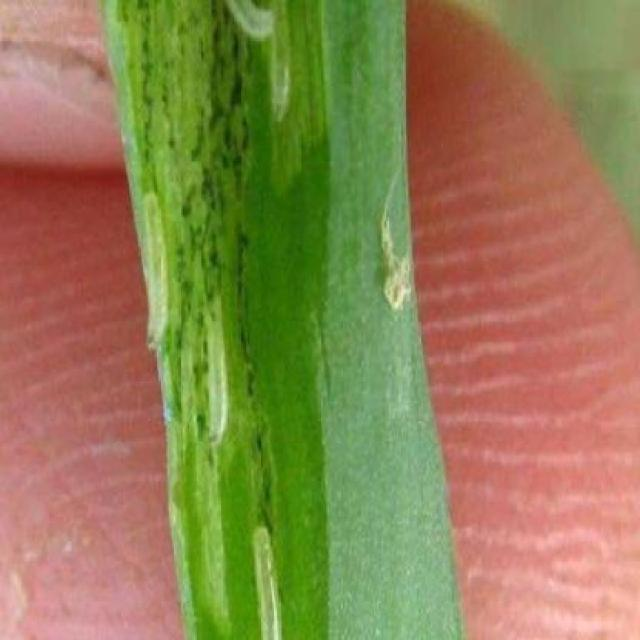whorl-maggot: (136, 184, 172, 364), (200, 293, 234, 445), (245, 523, 288, 640), (267, 0, 295, 125), (221, 0, 279, 48)
